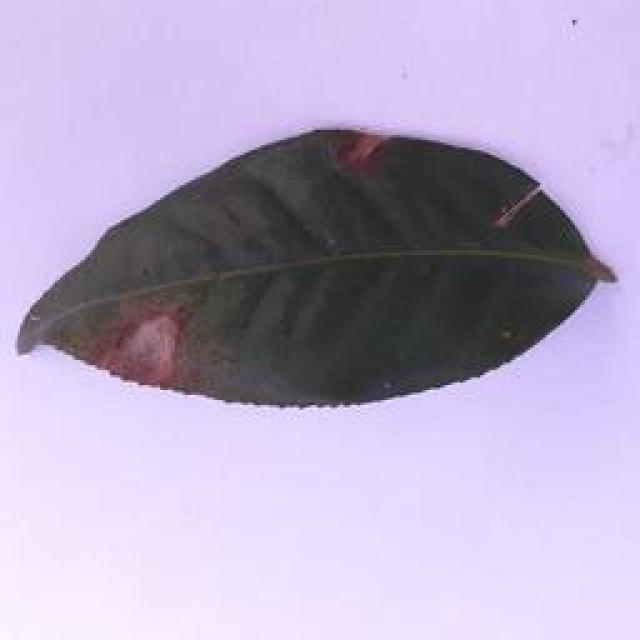Gray Blight: (9, 123, 618, 415)
